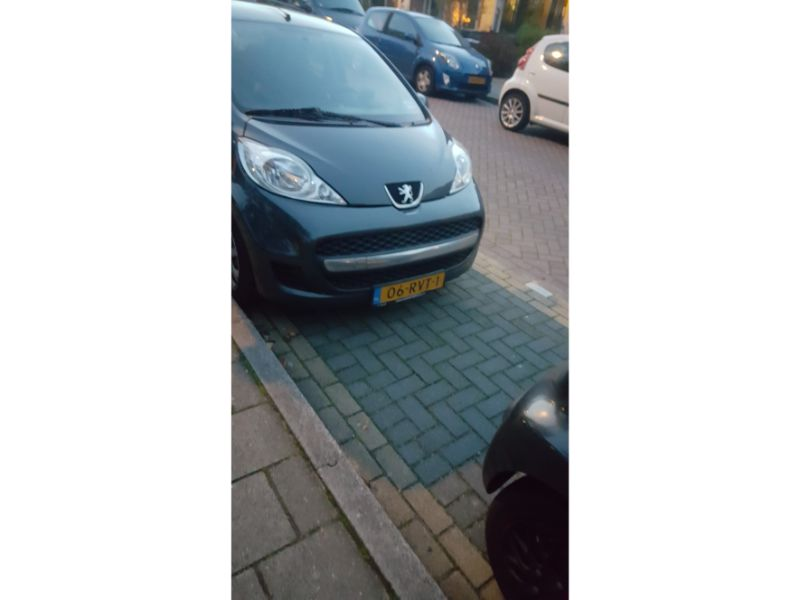kenteken: (368, 268, 449, 304)
